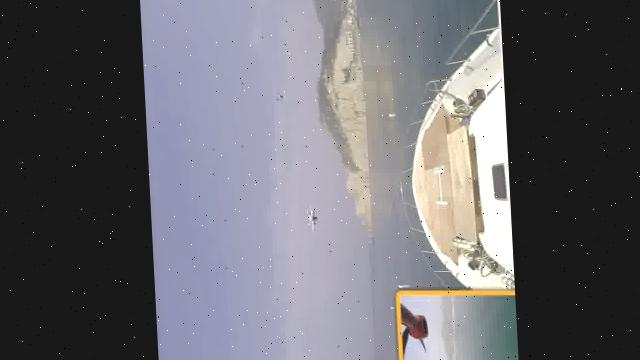drone: (295, 202, 323, 232)
